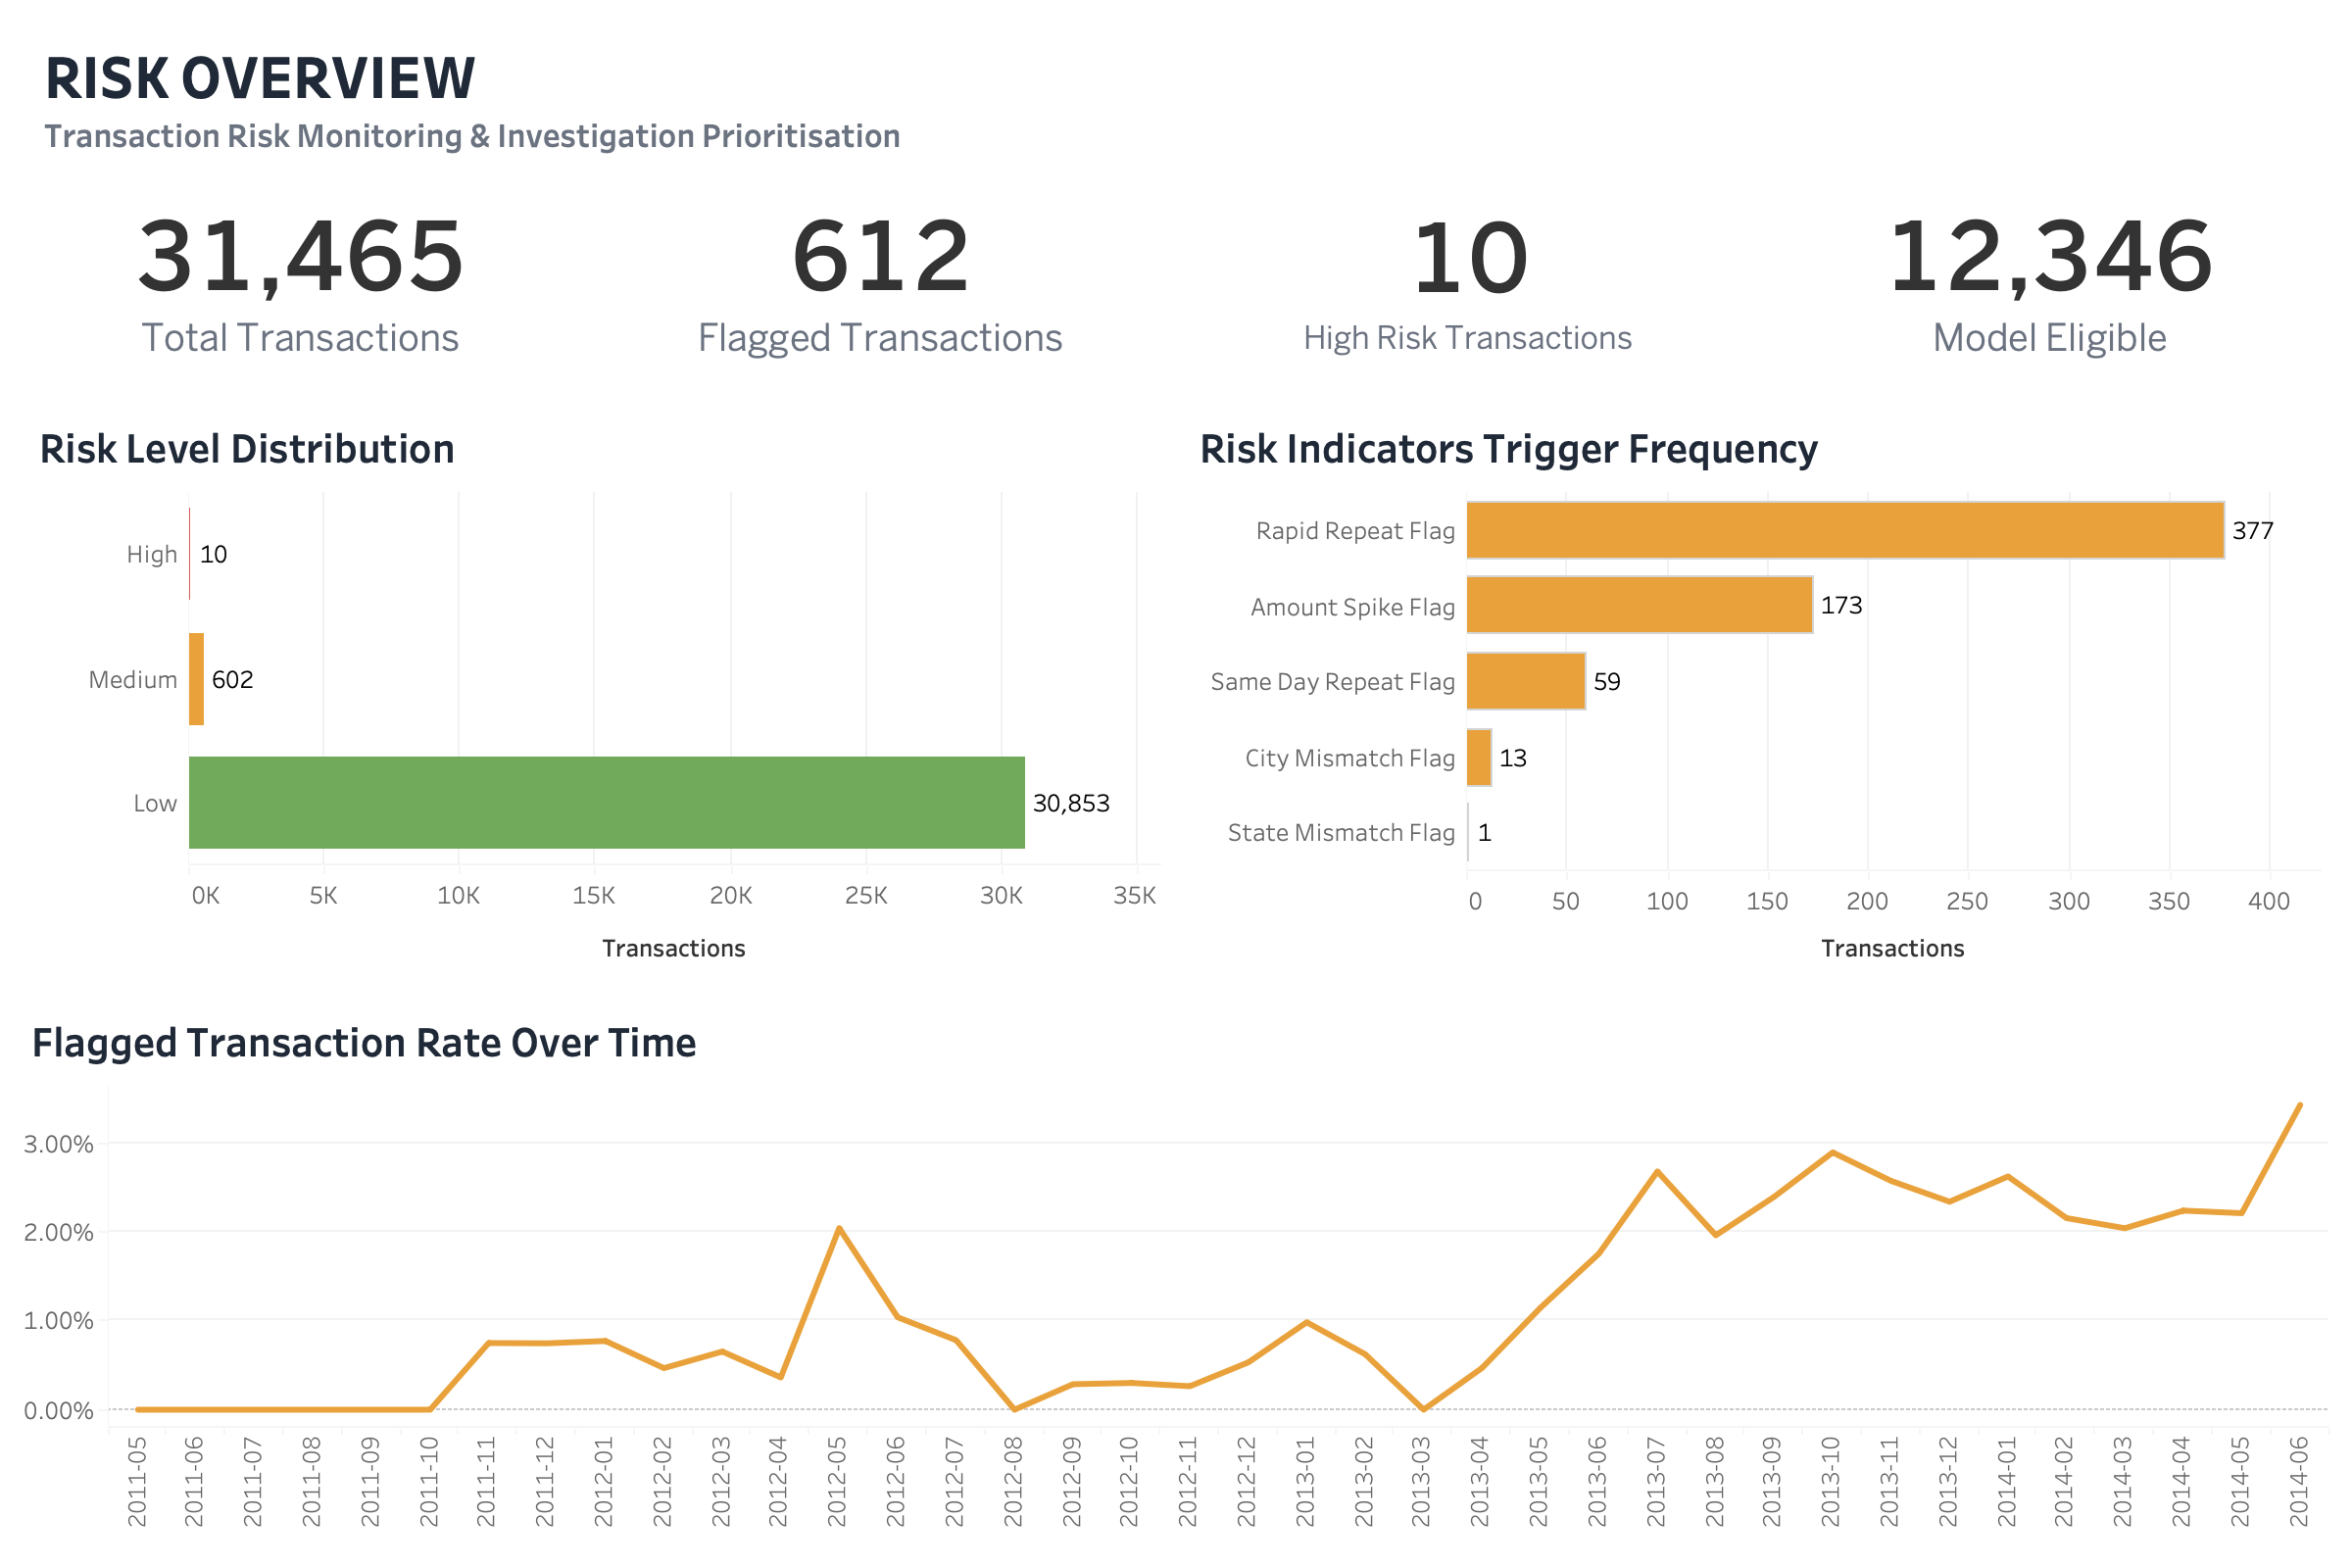

What the dashboard file says about the page in this screenshot:
{"tool":"tableau","page":{"name":"Risk Overview","canvas":[1200,800],"ordinal":3},"visuals":[{"type":"text","box":[8,8,1184,80]},{"type":"worksheet","title":"KPI - Total Transactions","mark":"Automatic","box":[8,88,292,112]},{"type":"worksheet","title":"KPI - Flagged Transactions","mark":"Automatic","box":[300,88,300,112]},{"type":"worksheet","title":"KPI - High Risk Transactions","mark":"Automatic","box":[600,88,300,112]},{"type":"worksheet","title":"KPI - Model Eligible","mark":"Automatic","box":[900,88,292,112]},{"type":"worksheet","title":"Chart - Risk Level Distribution","mark":"Bar","rows":["risk_level"],"cols":["SalesOrderID"],"box":[8,200,592,307]},{"type":"worksheet","title":"Chart - Risk Indicators Trigger Frequency","mark":"Bar","box":[600,200,592,307]},{"type":"worksheet","title":"Chart - Flagged Transaction Rate Over Time","mark":"Line","rows":["flagged_transaction_flag"],"cols":["order_year_month"],"box":[8,507,1184,285]}]}

Visuals, with their boxes in screenshot pixels (x1, y1, x2, y2), scaled from the page's 1200x800 canvas onto the 2352x1568 screenshot:
text: box=[16, 16, 2336, 172]
"KPI - Total Transactions" worksheet: box=[16, 172, 588, 392]
"KPI - Flagged Transactions" worksheet: box=[588, 172, 1176, 392]
"KPI - High Risk Transactions" worksheet: box=[1176, 172, 1764, 392]
"KPI - Model Eligible" worksheet: box=[1764, 172, 2336, 392]
"Chart - Risk Level Distribution" worksheet (Bar marks): box=[16, 392, 1176, 994]
"Chart - Risk Indicators Trigger Frequency" worksheet (Bar marks): box=[1176, 392, 2336, 994]
"Chart - Flagged Transaction Rate Over Time" worksheet (Line marks): box=[16, 994, 2336, 1552]
